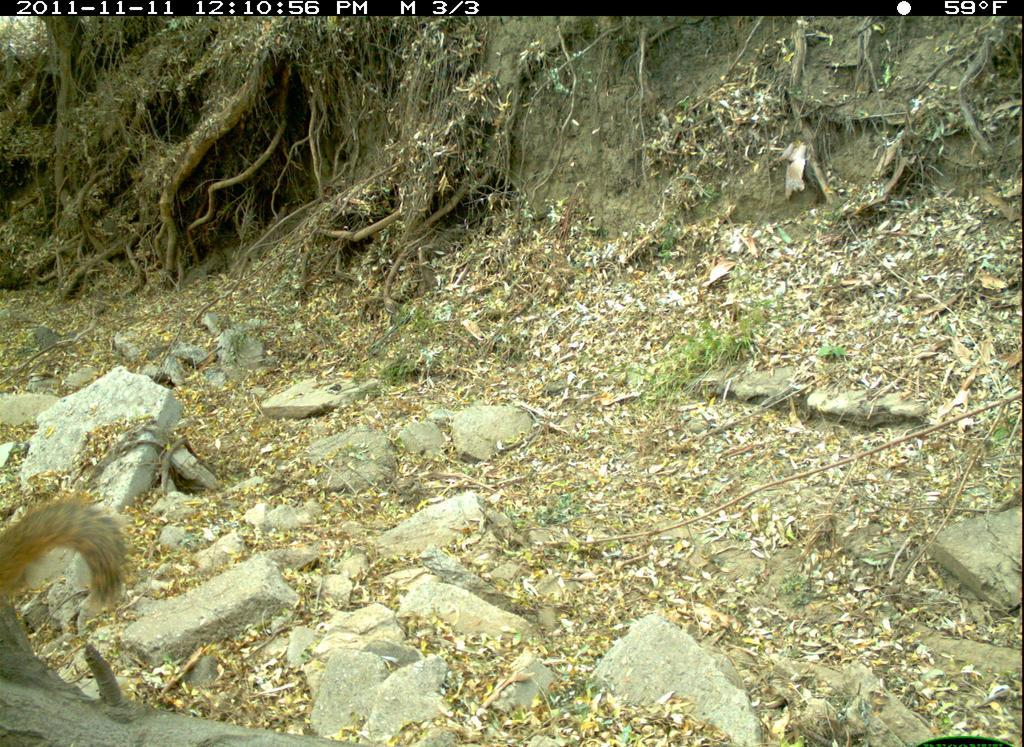squirrel: (1, 486, 150, 663)
